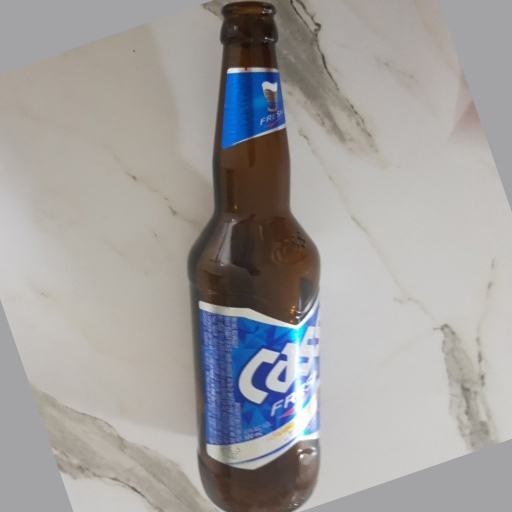Glass_1: (184, 1, 323, 512)
